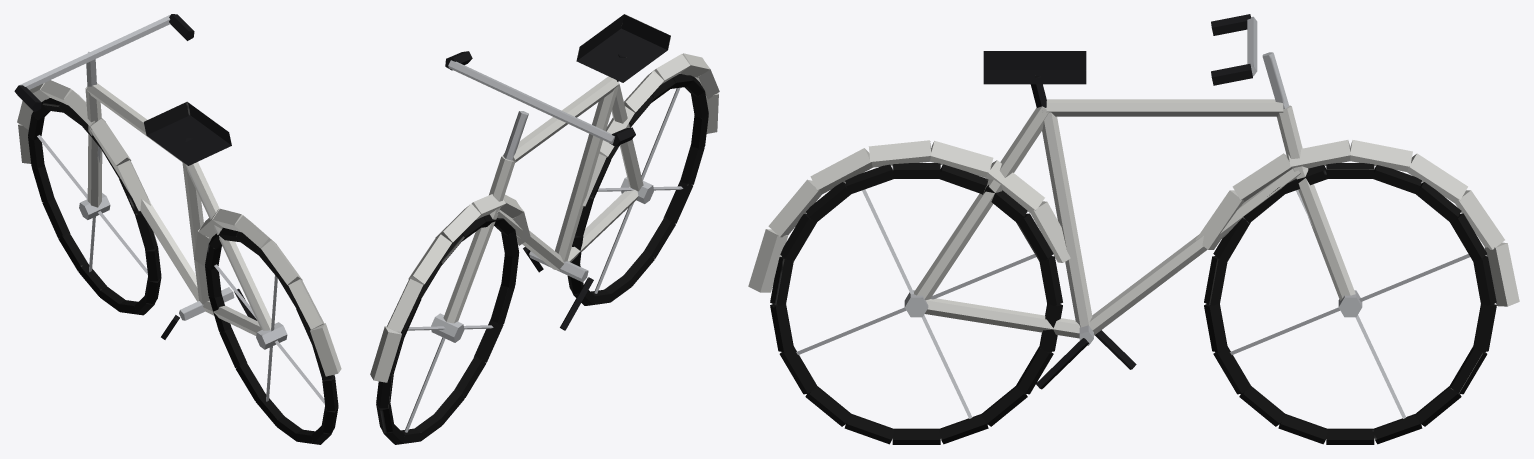
Rendered from kolo_caddeb0b.glb.
3 views of the same model, side by side, from view 1: azimuth 30°, elevation 25°; view 2: azimuth 150°, elevation 25°; view 3: azimuth 270°, elevation 25° (orthographic). The views are drawn at different scales.
Parts seen in each view (by area): view 1: dum; view 2: dum; view 3: dum.
Boxes of the visible parts, x1=… form: dum: x1=14, y1=14, x2=341, y2=444; dum: x1=370, y1=14, x2=719, y2=444; dum: x1=748, y1=14, x2=1519, y2=444.
Size of the model in its own units: 0.5906 by 1.09 by 1.95.
Materials: 1 (1 with a texture image).
